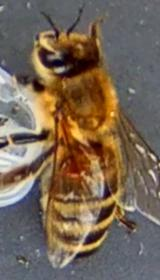varroa_mite: (51, 148, 97, 186)
